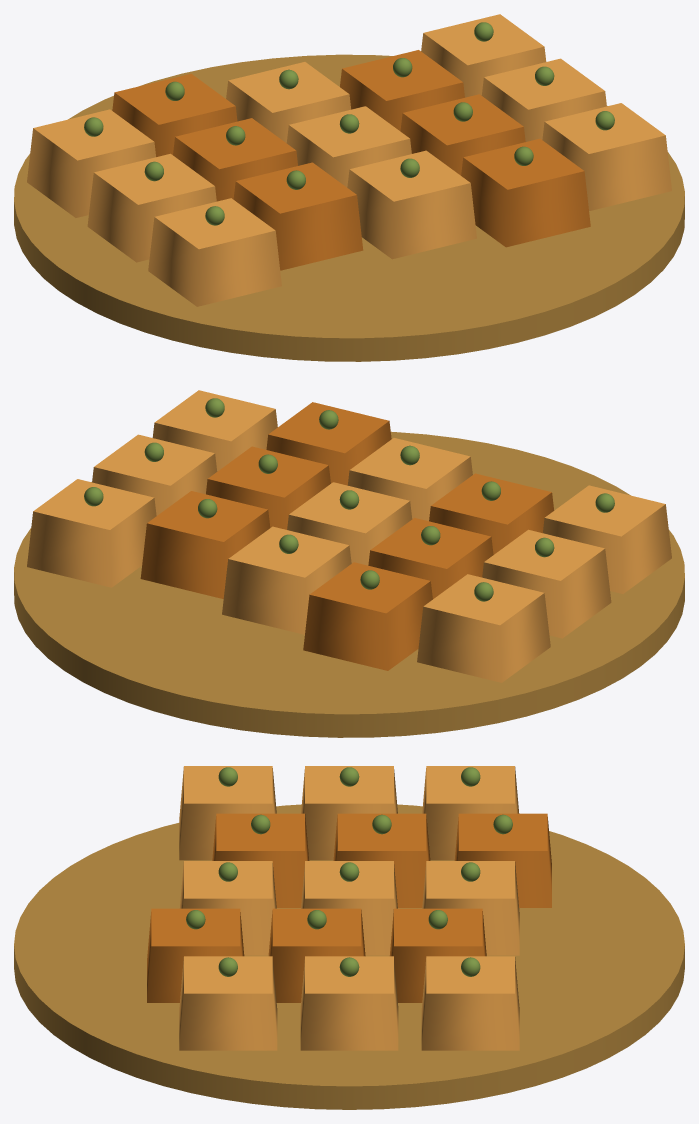
Rendered from arabic-sweets.glb.
3 renders of one model, top to bottom at view 1: azimuth 30°, elevation 25°; view 2: azimuth 150°, elevation 25°; view 3: azimuth 270°, elevation 25°, orthographic.
Parts seen in each view (by area): view 1: LaBaguette_arabic-sweets; view 2: LaBaguette_arabic-sweets; view 3: LaBaguette_arabic-sweets.
Boxes of the visible parts, x1,y1,x2,y2 form: LaBaguette_arabic-sweets: (14,14,684,361); LaBaguette_arabic-sweets: (14,390,684,737); LaBaguette_arabic-sweets: (14,766,684,1109).
Size of the model in its own units: 3.1 by 0.535 by 3.1.
